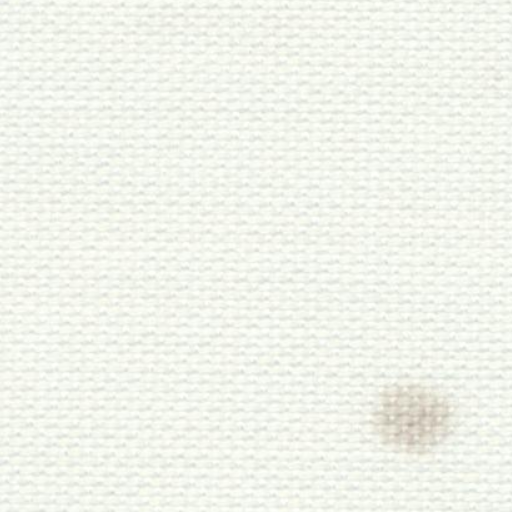WuZi: (353, 348, 468, 468)
